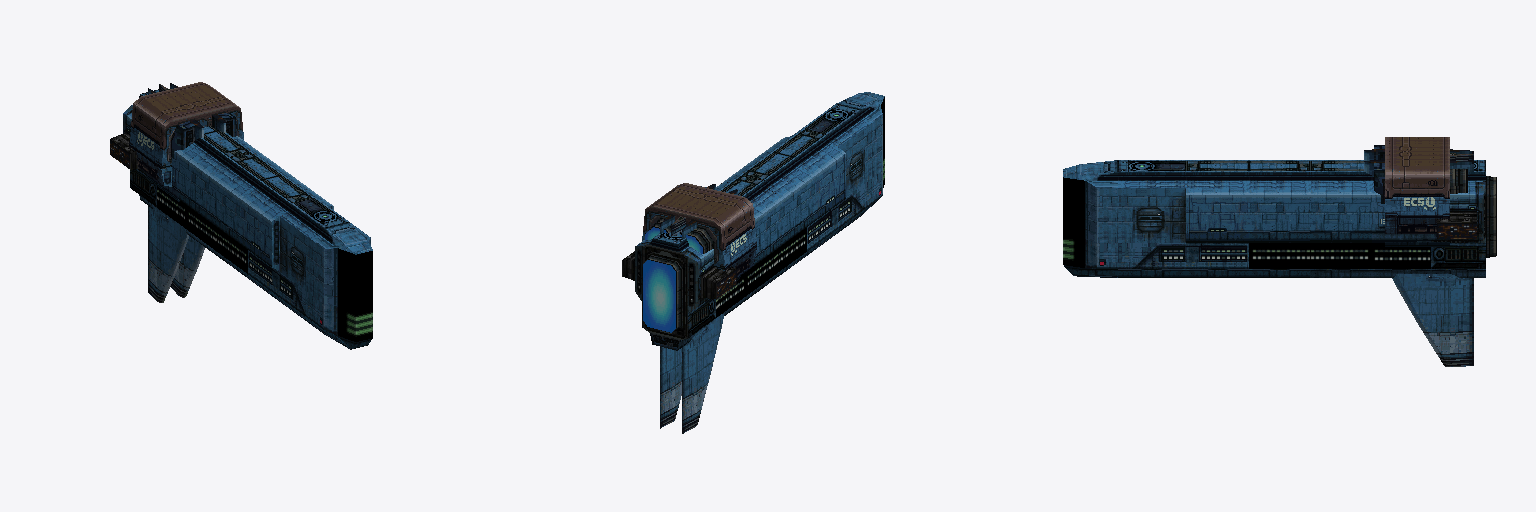
3 renders of one model, left to right at view 1: azimuth 30°, elevation 25°; view 2: azimuth 150°, elevation 25°; view 3: azimuth 270°, elevation 25°, orthographic.
Parts seen in each view (by area): view 1: Object_0; view 2: Object_0; view 3: Object_0.
Boxes of the visible parts, x1,y1,x2,y2 form: Object_0: [110, 82, 372, 349]; Object_0: [622, 92, 884, 433]; Object_0: [1063, 137, 1496, 366].
Bounding box in the file's own units: 9562 × 20218 × 37984.
35 materials, 34 textured.